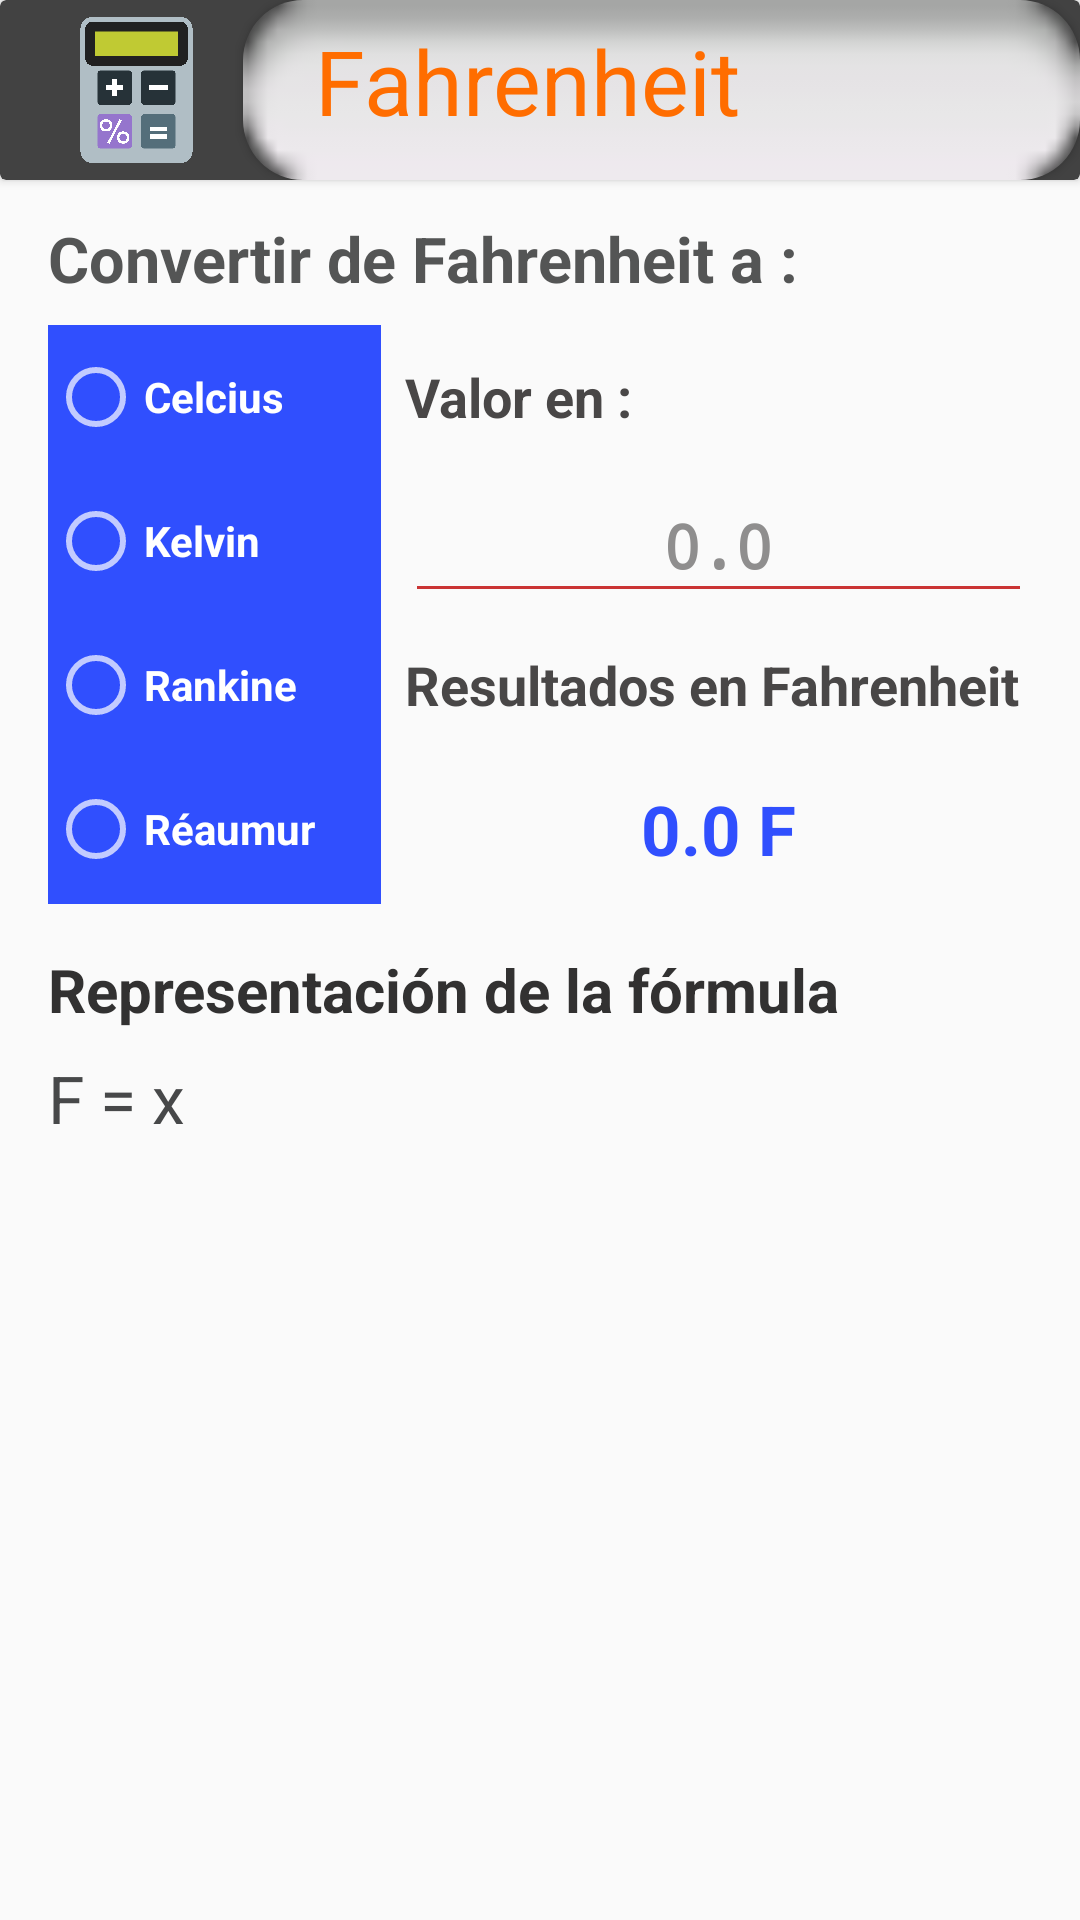

Named icons in this screenshot (1080px x 1920px) and their centers, [x,y]:
calc: [136,90]
